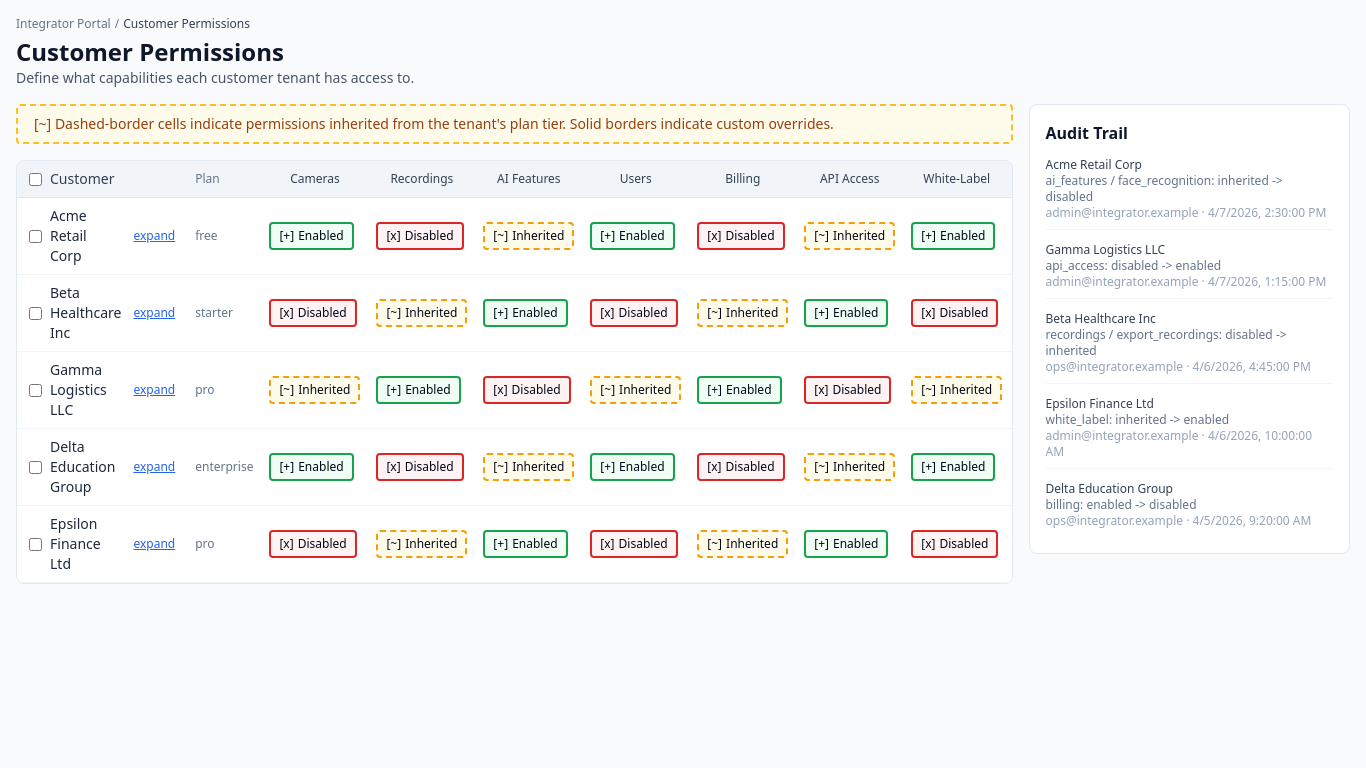
PermissionsPage › select-all checkbox toggles all tenants
Check: the element with test id "permissions-matrix" is shown, box x1=16 y1=160 x2=1012 y2=584
Check: the row with test id "tenant-row-cust-integrator-001-000" is shown, box x1=17 y1=198 x2=1012 y2=274
# Click select all
Click the checkbox with test id "select-all-checkbox". click: (36, 179)
box: x1=29 y1=172 x2=42 y2=186
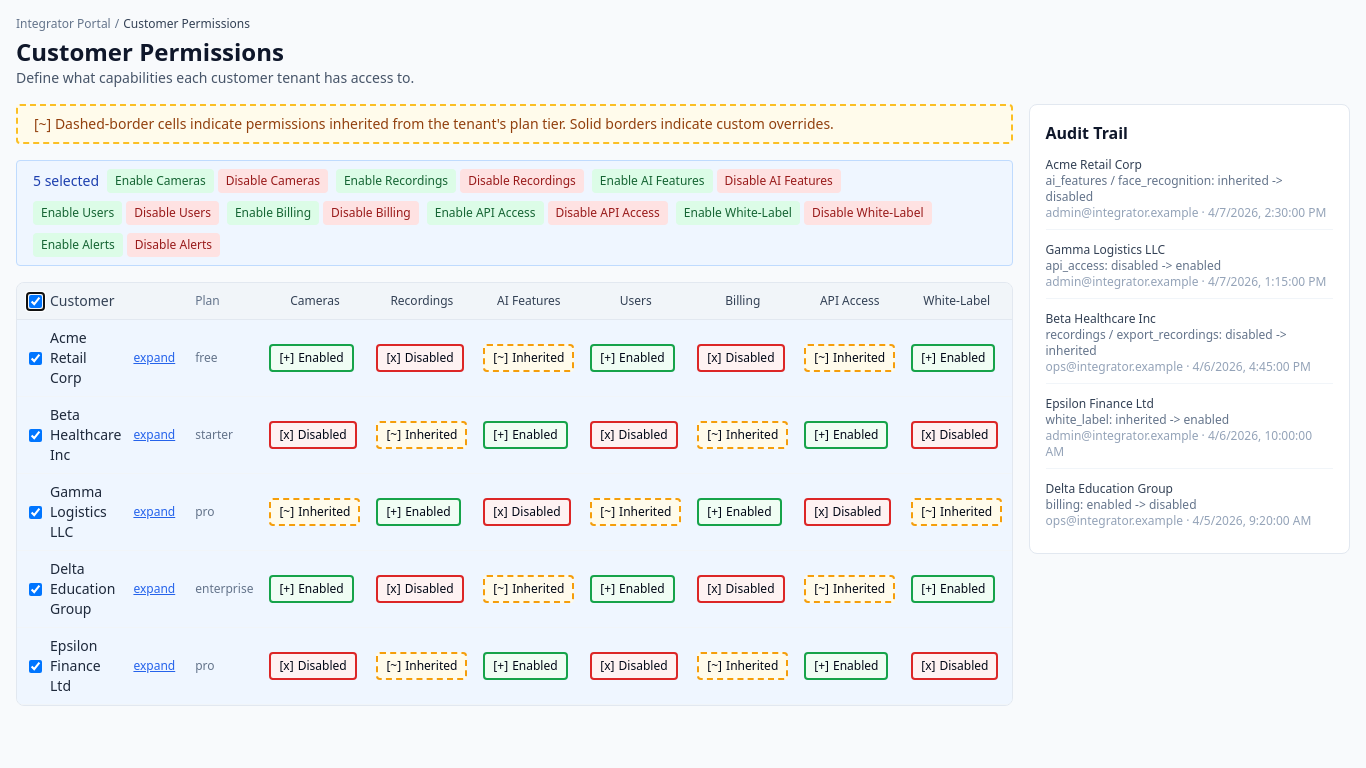
Check: the element with test id "bulk-actions-toolbar" is shown, box x1=16 y1=160 x2=1012 y2=266
Check: the text "5 selected" is shown, box x1=33 y1=171 x2=99 y2=191
# Click select all again to deselect
Click the checkbox with test id "select-all-checkbox". click: (36, 301)
box: x1=29 y1=294 x2=42 y2=308
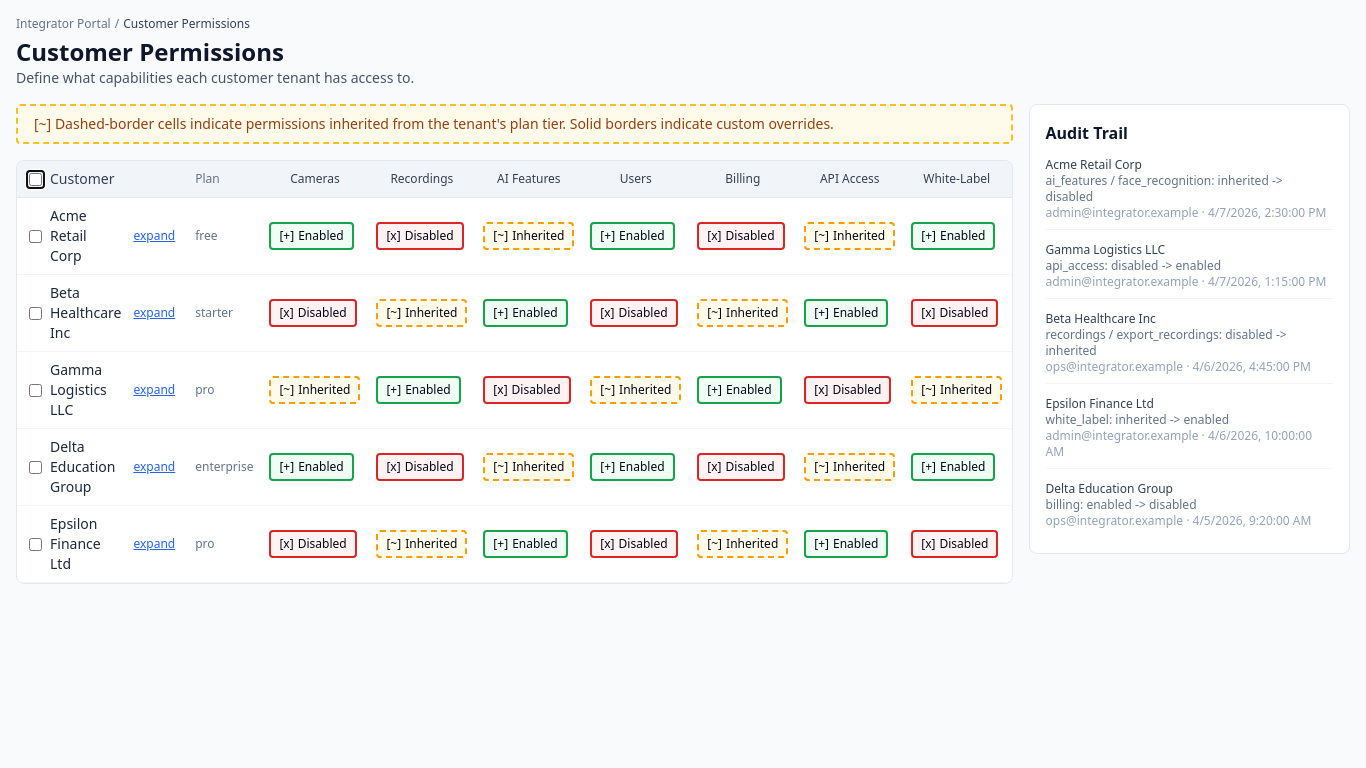
Check: the element with test id "bulk-actions-toolbar" is gone
